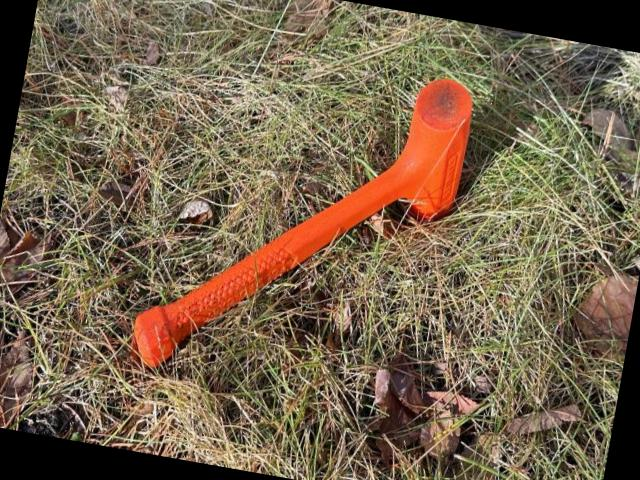hammer: (125, 29, 479, 412)
